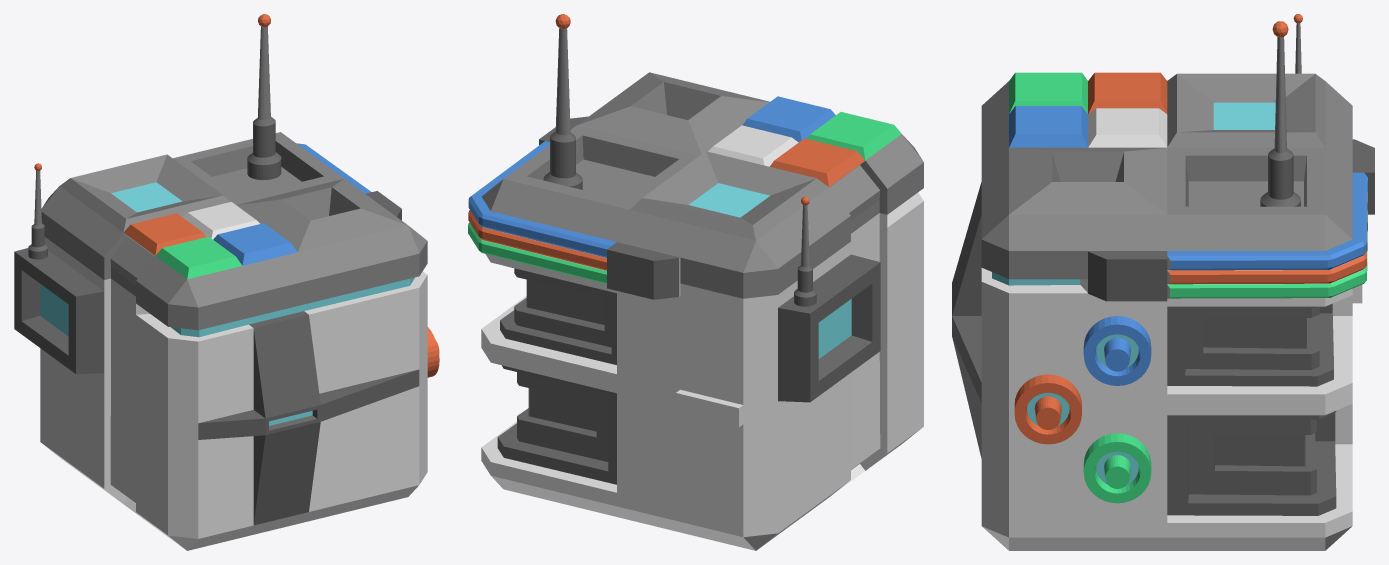
Rendered from bidule.fbx.
3 views of the same model, side by side, from view 1: azimuth 30°, elevation 25°; view 2: azimuth 150°, elevation 25°; view 3: azimuth 270°, elevation 25° (orthographic). The views are drawn at different scales.
Parts seen in each view (by area): view 1: Cube, Cylinder, Cylinder.001; view 2: Cube, Cylinder, Cylinder.001; view 3: Cube, Cylinder.002, Cylinder.003, Cylinder.004, Cylinder.
Boxes of the visible parts, box(x1,y1,x2,y2) form: Cube: box(14, 132, 427, 550); Cylinder: box(247, 14, 281, 180); Cylinder.001: box(28, 163, 47, 259); Cube: box(468, 72, 923, 550); Cylinder: box(543, 14, 582, 189); Cylinder.001: box(794, 196, 816, 306); Cube: box(952, 72, 1374, 550); Cylinder.002: box(1083, 316, 1151, 385); Cylinder.003: box(1083, 433, 1151, 503); Cylinder.004: box(1014, 374, 1081, 444); Cylinder: box(1260, 21, 1300, 206).
Bounding box in the file's own units: 238 × 302 × 228.
